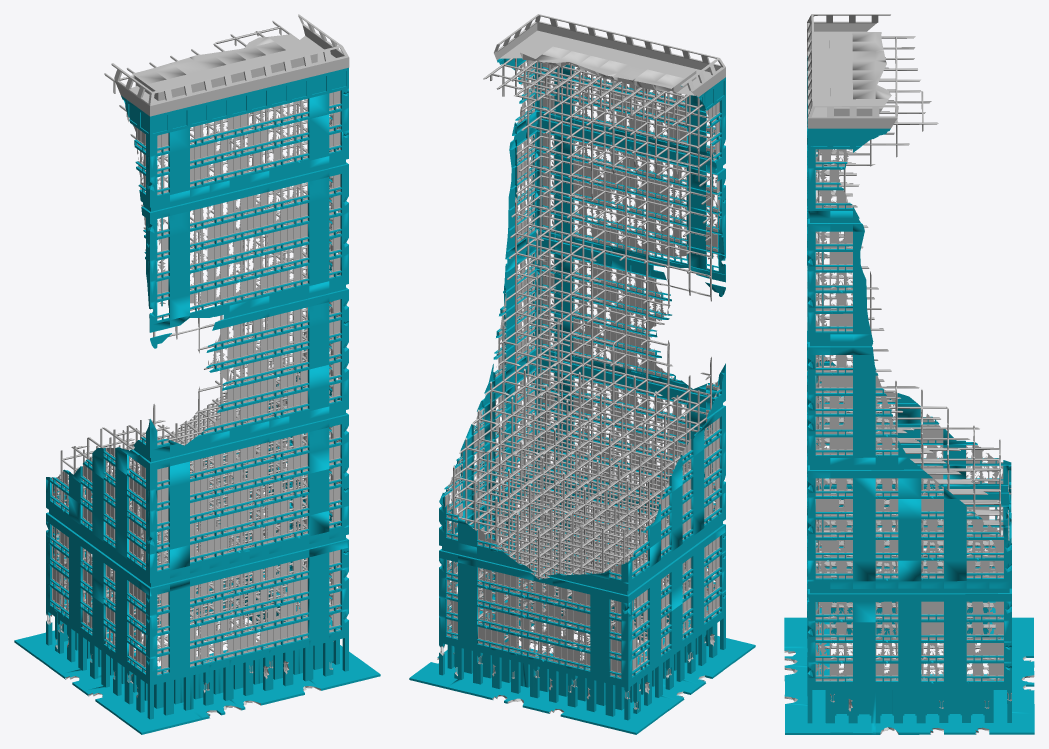
The model's file is post_apocalyptic_buildings_3.fbx.
The picture shows the model from 3 angles, left to right: view 1: azimuth 30°, elevation 25°; view 2: azimuth 150°, elevation 25°; view 3: azimuth 270°, elevation 25°; orthographic projection. The views are drawn at different scales.
Parts seen in each view (by area): view 1: post_apocalyptic_buildings_3; view 2: post_apocalyptic_buildings_3; view 3: post_apocalyptic_buildings_3.
Boxes of the visible parts, left/top/right/bottom form: post_apocalyptic_buildings_3: left=14, top=14, right=380, bottom=734; post_apocalyptic_buildings_3: left=409, top=14, right=755, bottom=734; post_apocalyptic_buildings_3: left=784, top=14, right=1034, bottom=734.
Size of the model in its own units: 72.19 by 180 by 66.21.
